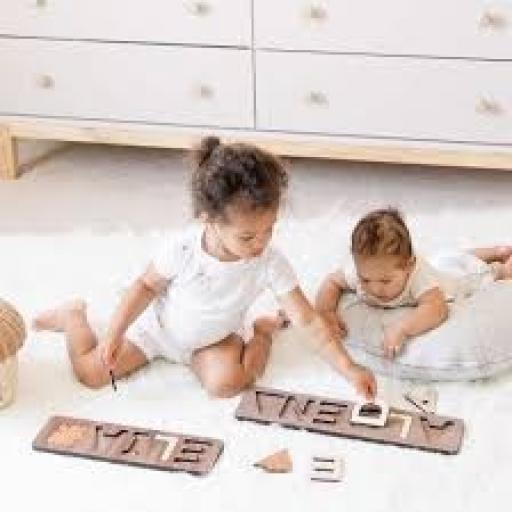baby: (32, 137, 377, 400), (316, 208, 511, 357)
